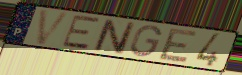4: (194, 32, 222, 69)
E: (156, 27, 200, 64), (61, 15, 102, 51)
G: (128, 24, 163, 58)
N: (92, 17, 137, 56)
V: (34, 8, 73, 46)
